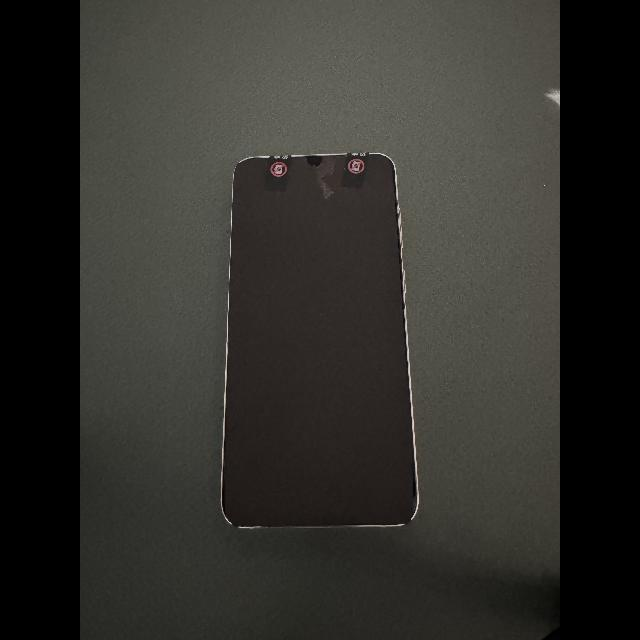lens: (312, 163, 317, 169)
phone: (221, 153, 418, 529)
sticker: (341, 152, 369, 188), (265, 155, 292, 192)
